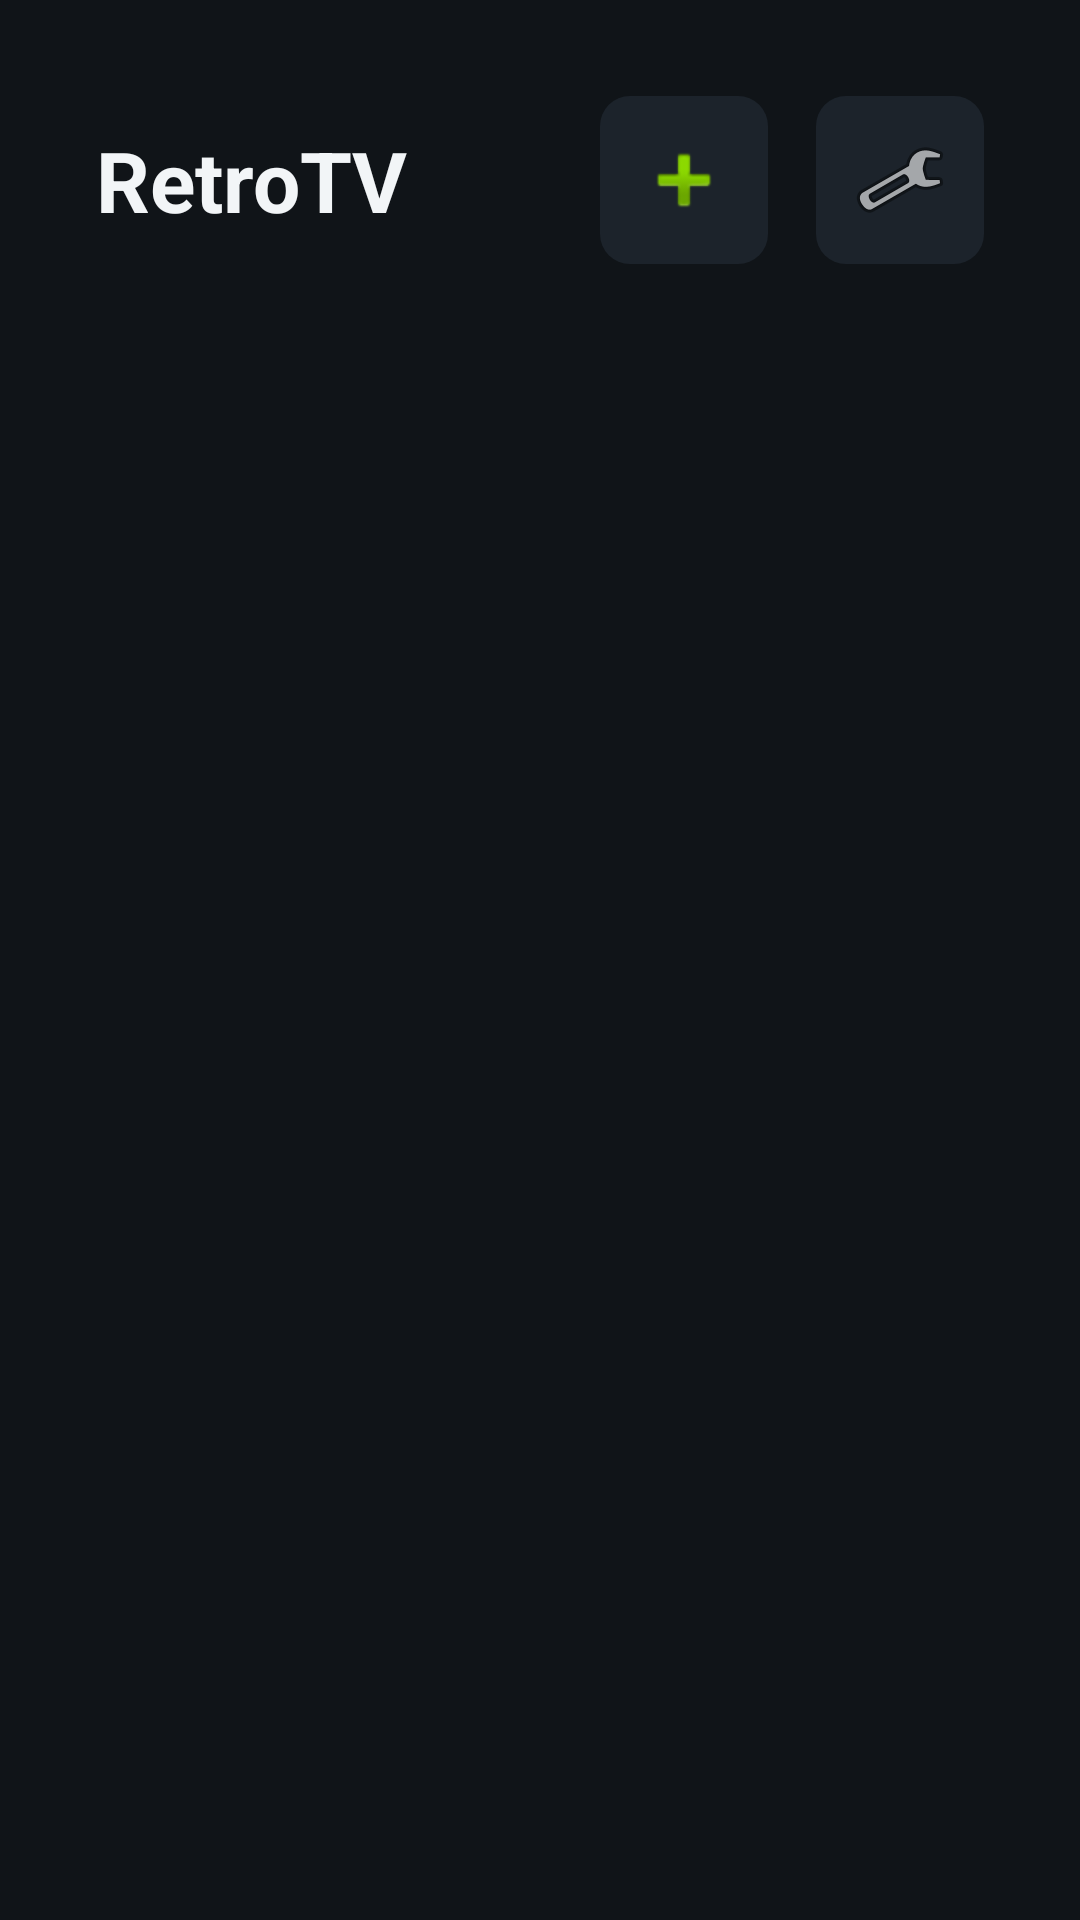

Named icons in this screenshot (1080 x 1920) and their bounding boxes, rect(x1, y1, x2, y2):
Добавить ром: rect(600, 96, 768, 264)
Настройки: rect(816, 96, 984, 264)
